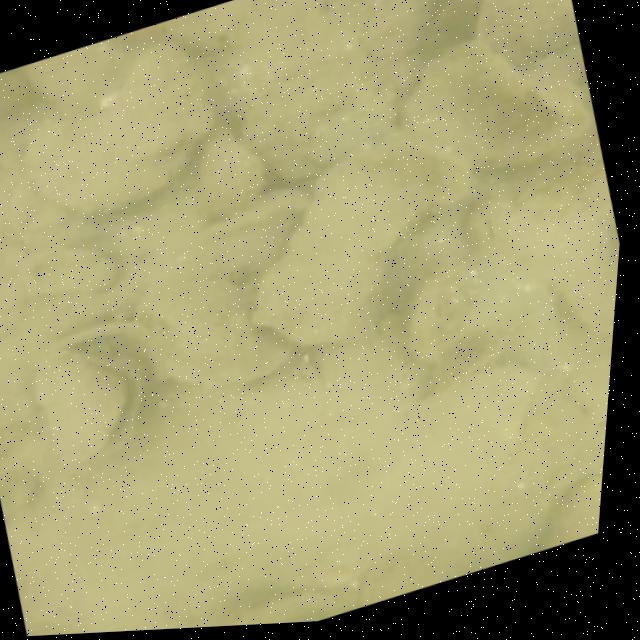Oyster-Closed: (416, 327, 512, 401), (412, 267, 475, 358), (197, 130, 260, 210), (361, 0, 430, 57)
Oyster-Indeterminate: (255, 155, 435, 347), (26, 44, 209, 215), (395, 33, 594, 174), (240, 57, 389, 178), (136, 278, 292, 385), (12, 179, 112, 248), (477, 0, 576, 60), (27, 45, 118, 108), (549, 477, 602, 547), (360, 556, 430, 605)
Oyster-Open: (38, 349, 142, 459)
